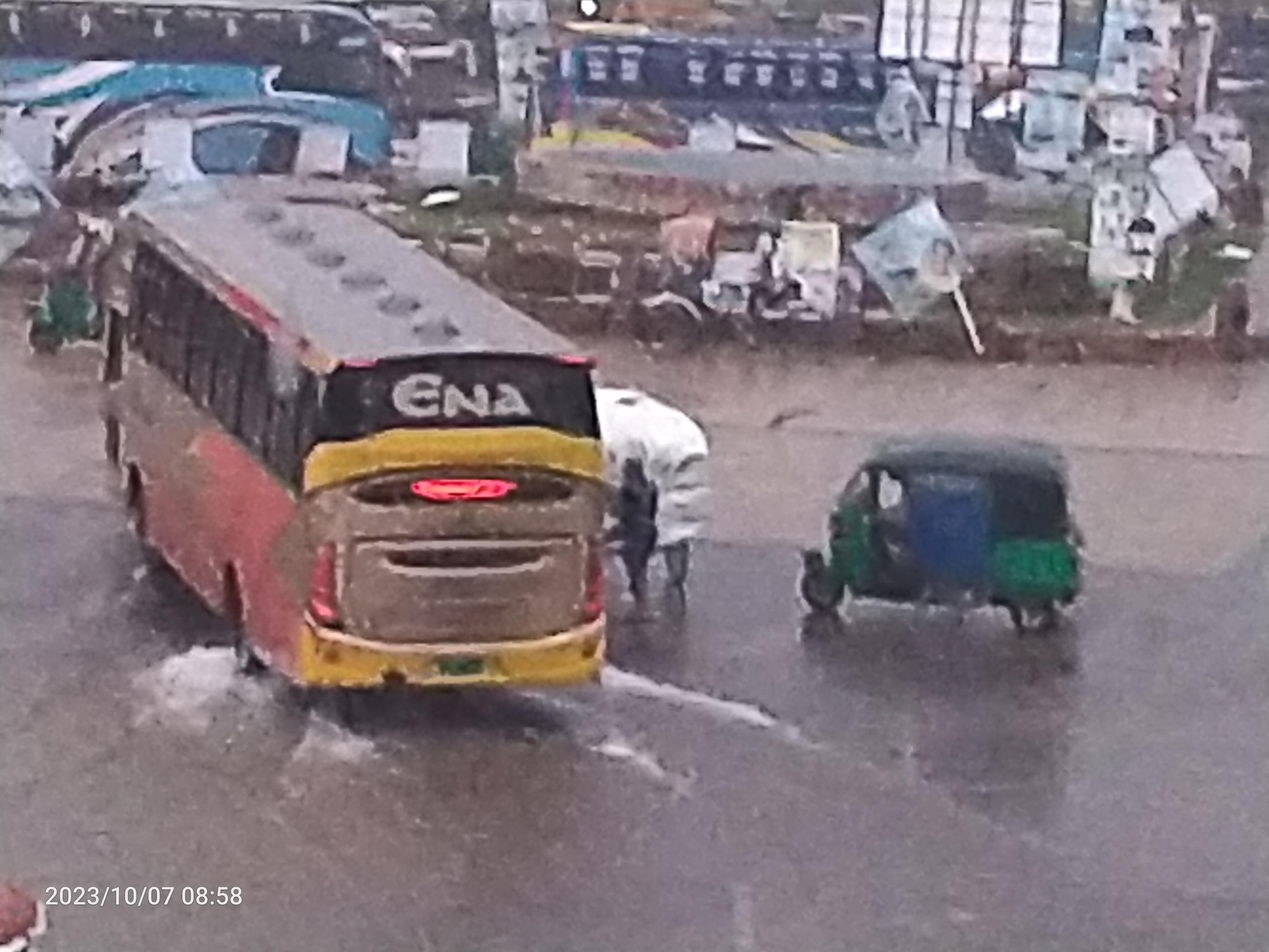Bus: (80, 164, 651, 755), (0, 0, 435, 202), (520, 27, 926, 207)
